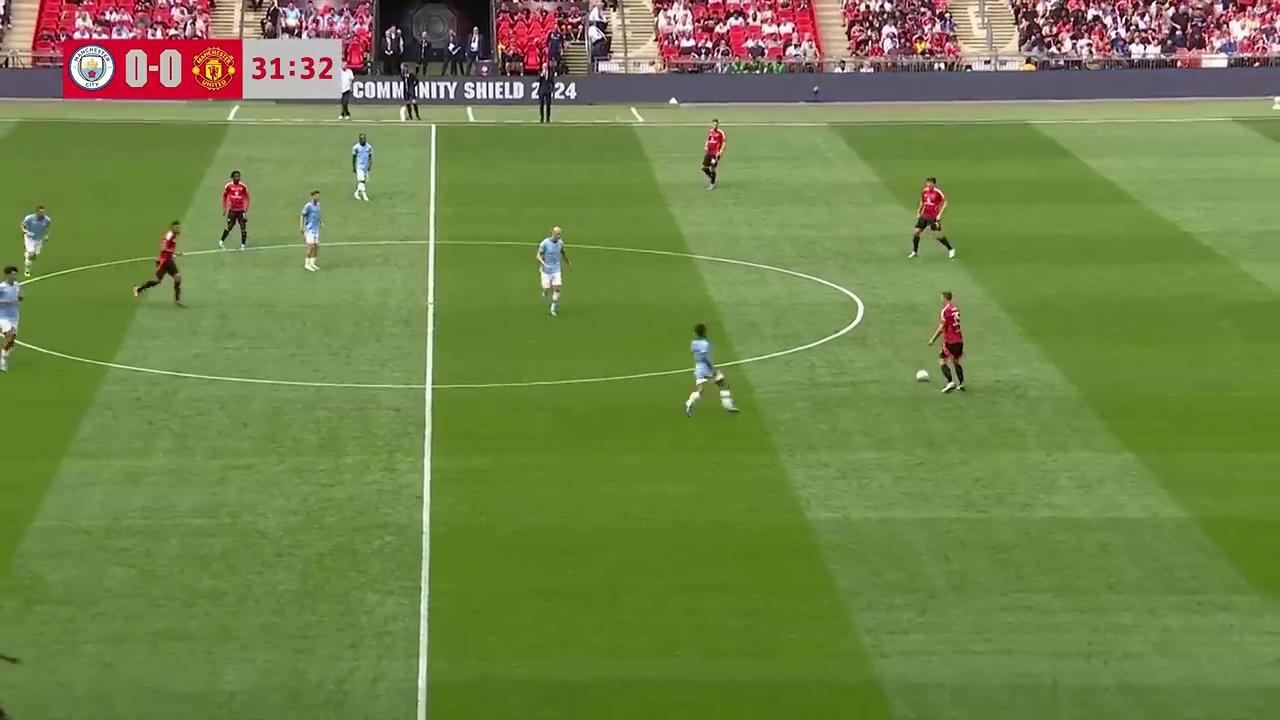ball: (914, 366, 931, 383)
player: (683, 322, 739, 416), (135, 220, 185, 306), (907, 177, 954, 258), (536, 226, 571, 316), (219, 169, 250, 250), (0, 265, 23, 371), (20, 204, 51, 272), (299, 190, 323, 271), (701, 120, 725, 189), (351, 133, 373, 201)
referee: (930, 298, 965, 393)
